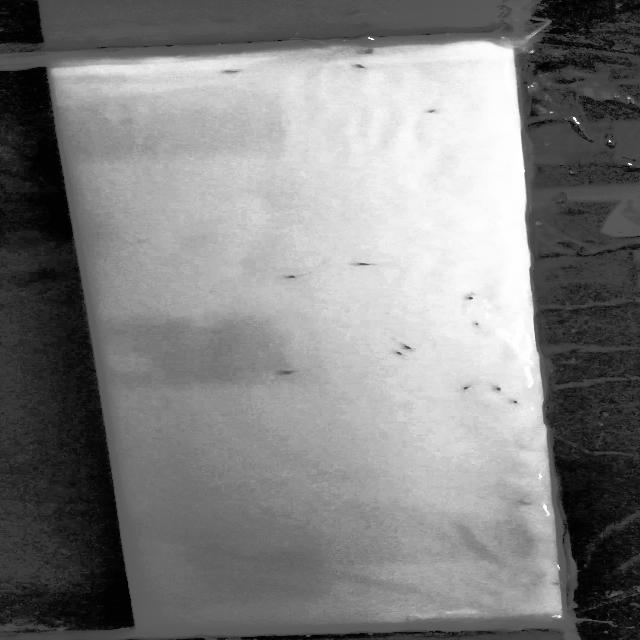shrimp: (274, 270, 306, 284), (349, 257, 381, 270), (346, 60, 373, 74), (216, 66, 250, 77), (273, 365, 298, 378), (421, 107, 442, 117), (399, 339, 415, 352), (462, 293, 481, 303), (490, 385, 506, 395), (458, 384, 472, 394), (392, 349, 404, 356), (512, 401, 522, 407)
